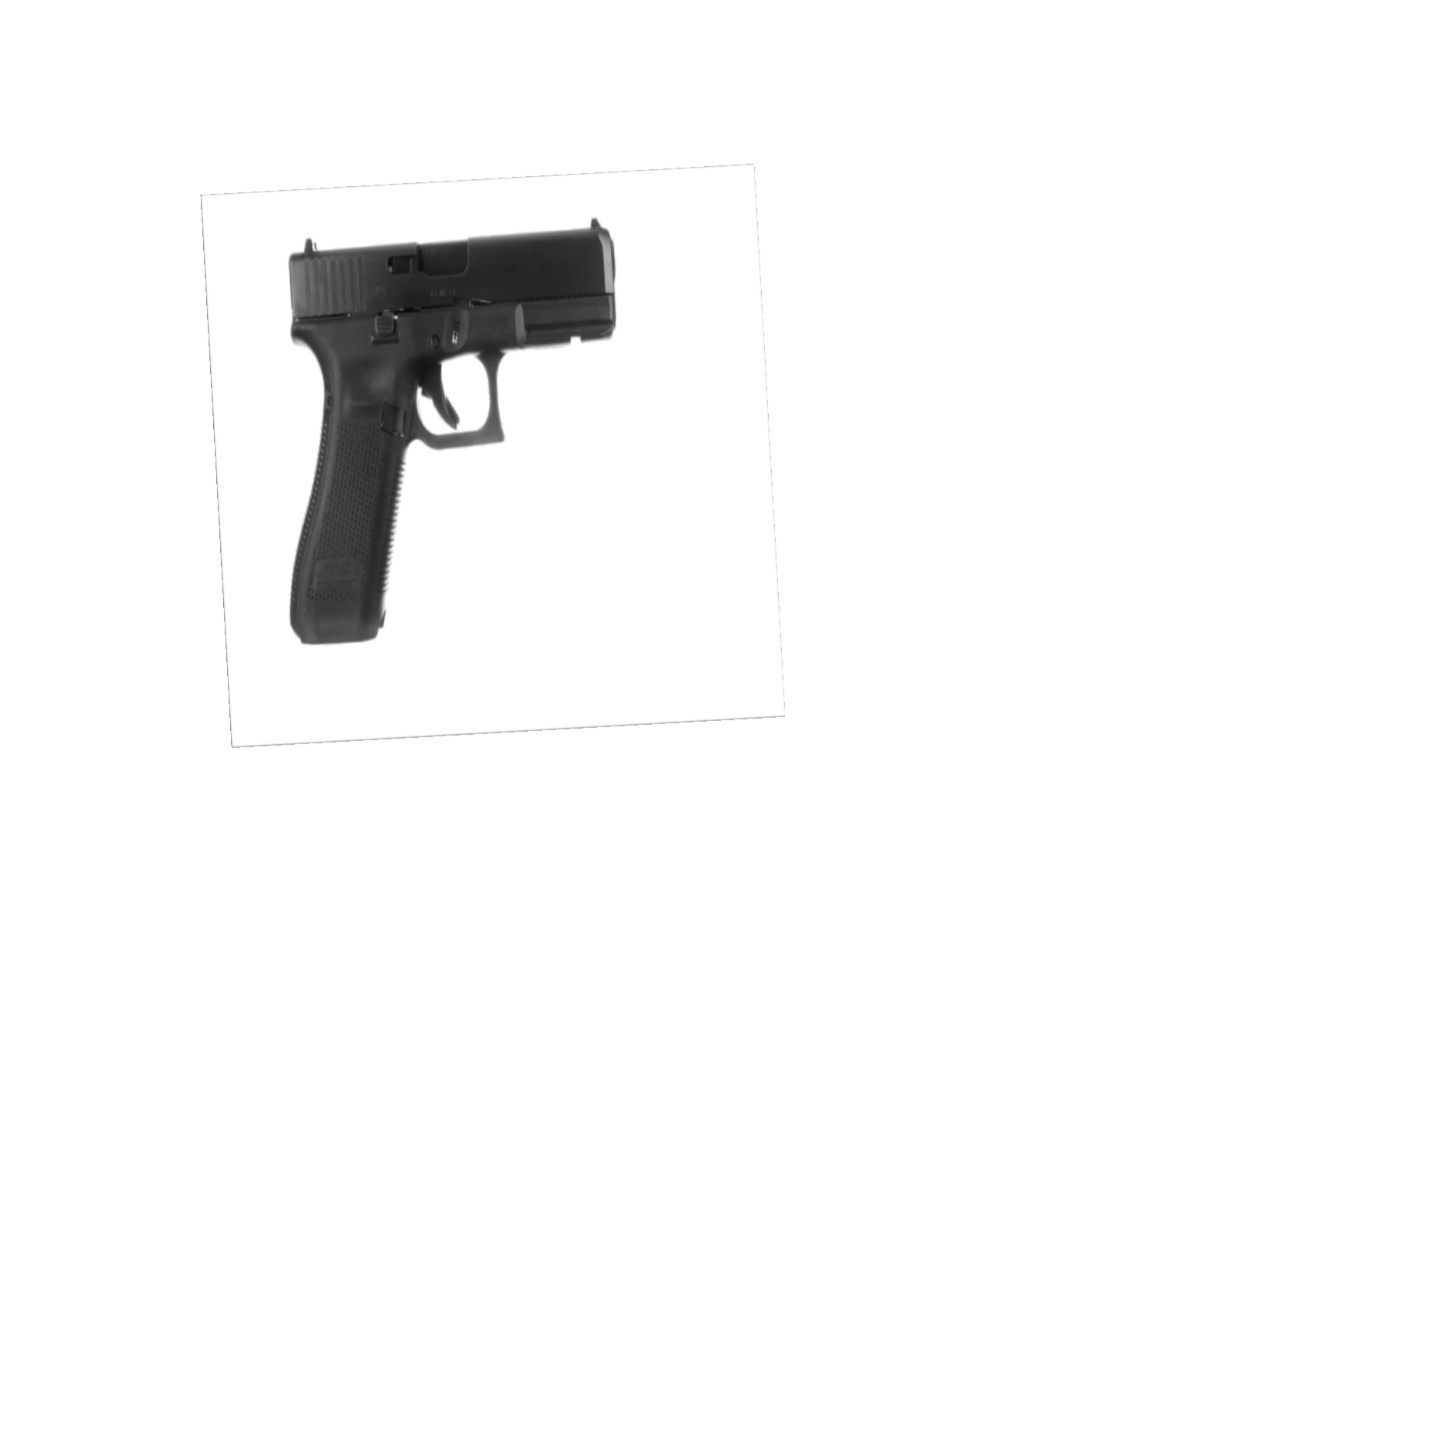gun: (280, 219, 622, 647)
